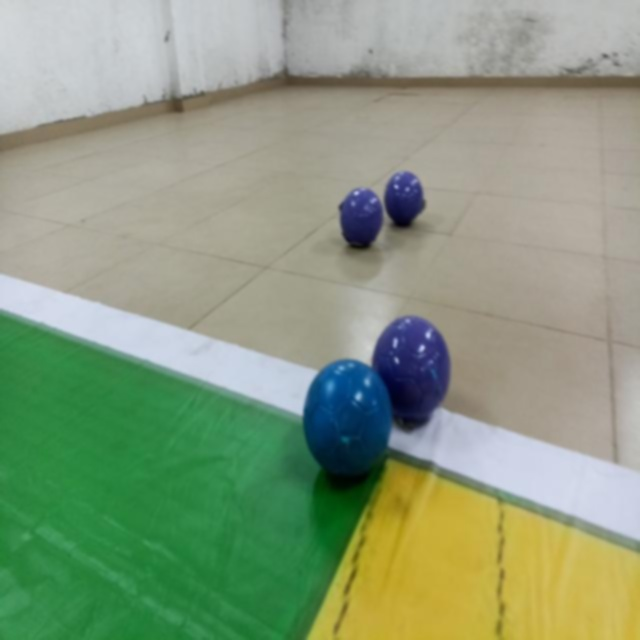blue_ball: (305, 356, 393, 494)
purple_ball: (375, 301, 453, 422), (339, 179, 384, 248), (385, 161, 428, 227)
